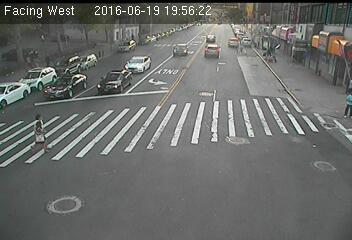neg: (117, 16, 136, 41), (276, 66, 293, 89), (237, 54, 254, 76), (85, 117, 101, 138), (184, 102, 199, 122), (137, 139, 152, 159), (78, 44, 93, 63), (130, 83, 144, 101), (229, 131, 242, 148), (170, 84, 182, 100), (160, 13, 172, 29), (203, 46, 213, 58)
pos: (26, 114, 51, 148), (340, 91, 351, 116)
